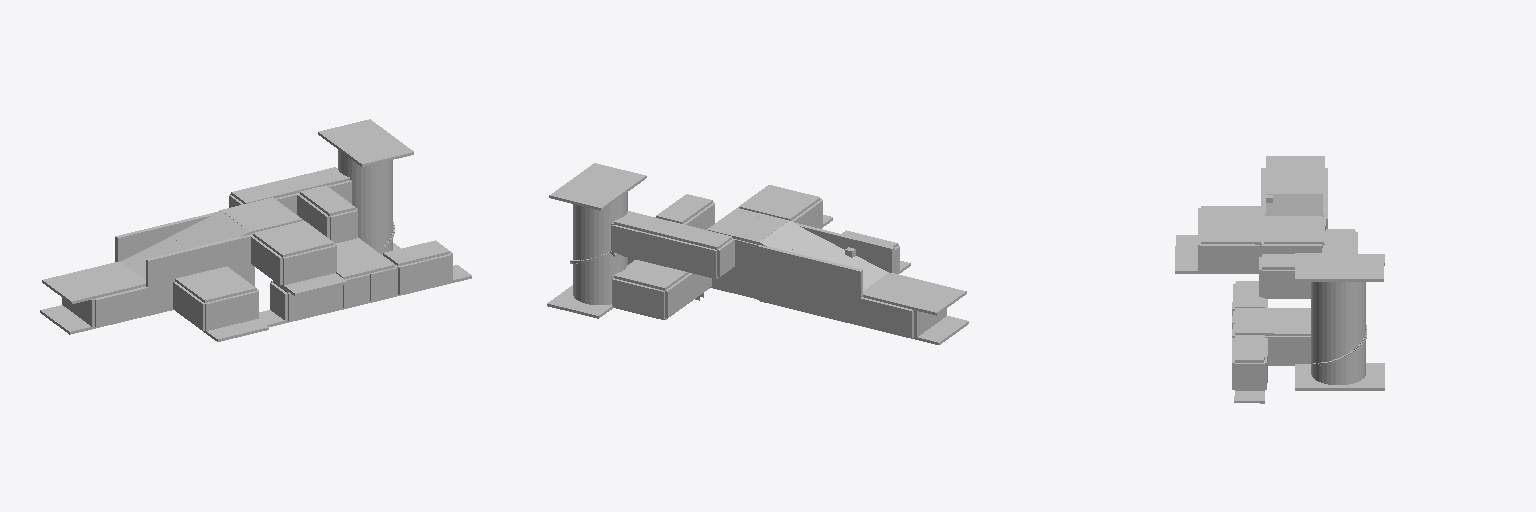
The model's file is DungeonC.obj.
The picture shows the model from 3 angles: view 1: azimuth 30°, elevation 25°; view 2: azimuth 150°, elevation 25°; view 3: azimuth 270°, elevation 25°; orthographic projection.
Parts seen in each view (by area): view 1: _Ceiling_57_Ceiling_57.001, _Wall_A_80_Wall_A_80.001, _Door_A_4_Door_A_4.001, _Wall_A_14_Wall_A_14.001, _Wall_A_Roundabout_1_Wall_A_Roundabout_1.001, _Floor_B_Floor_B_47.001, _Ceiling_26_Ceiling_26.002; view 2: _Ceiling_57_Ceiling_57.001, _Ceiling_26_Ceiling_26.002, _Wall_A_Roundabout_1_Wall_A_Roundabout_1.001, _Wall_A_80_Wall_A_80.001, _Floor_B_Floor_B_47.001, _Wall_A_14_Wall_A_14.001, _Wall_A_30_Wall_A_30.001, _Door_A_4_Door_A_4.001; view 3: _Ceiling_57_Ceiling_57.001, _Wall_A_Roundabout_1_Wall_A_Roundabout_1.001, _Wall_A_80_Wall_A_80.001, _Floor_B_Floor_B_47.001, _Wall_A_14_Wall_A_14.001.
Part boxes in pixels (bbox=[...]): _Ceiling_57_Ceiling_57.001: bbox=[42, 119, 449, 303]; _Wall_A_80_Wall_A_80.001: bbox=[146, 193, 357, 287]; _Door_A_4_Door_A_4.001: bbox=[62, 263, 258, 330]; _Wall_A_14_Wall_A_14.001: bbox=[270, 251, 452, 320]; _Wall_A_Roundabout_1_Wall_A_Roundabout_1.001: bbox=[338, 150, 392, 254]; _Floor_B_Floor_B_47.001: bbox=[40, 243, 471, 341]; _Ceiling_26_Ceiling_26.002: bbox=[115, 181, 351, 261]; _Ceiling_57_Ceiling_57.001: bbox=[549, 163, 966, 315]; _Ceiling_26_Ceiling_26.002: bbox=[612, 231, 913, 337]; _Wall_A_Roundabout_1_Wall_A_Roundabout_1.001: bbox=[573, 192, 627, 304]; _Wall_A_80_Wall_A_80.001: bbox=[655, 198, 894, 277]; _Floor_B_Floor_B_47.001: bbox=[547, 215, 968, 344]; _Wall_A_14_Wall_A_14.001: bbox=[628, 258, 756, 318]; _Wall_A_30_Wall_A_30.001: bbox=[612, 225, 690, 271]; _Door_A_4_Door_A_4.001: bbox=[895, 244, 946, 336]; _Ceiling_57_Ceiling_57.001: bbox=[1201, 156, 1384, 362]; _Wall_A_Roundabout_1_Wall_A_Roundabout_1.001: bbox=[1311, 282, 1365, 384]; _Wall_A_80_Wall_A_80.001: bbox=[1198, 168, 1355, 297]; _Floor_B_Floor_B_47.001: bbox=[1175, 235, 1384, 403]; _Wall_A_14_Wall_A_14.001: bbox=[1232, 283, 1310, 390].
Size of the model in its own units: 8709 by 2497 by 4091.